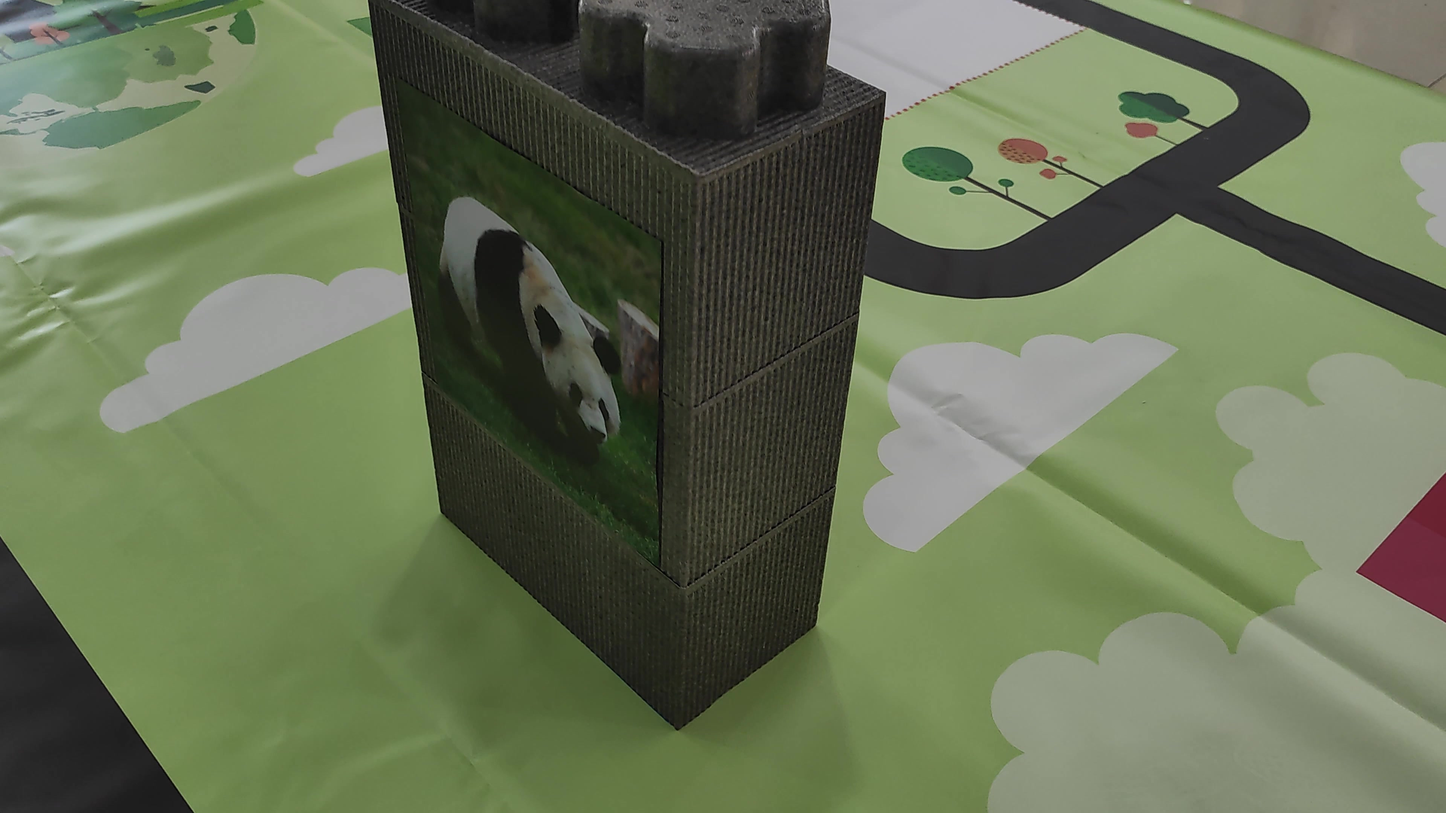panda: (417, 173, 643, 444)
